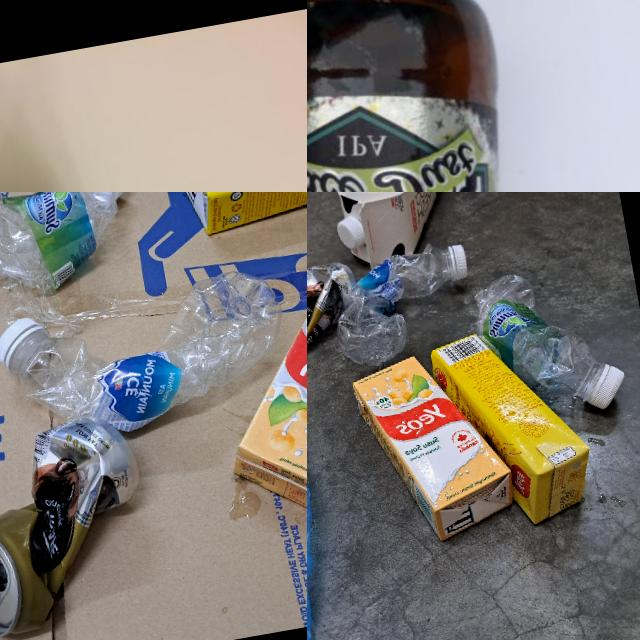caixinha: (430, 316, 598, 538), (350, 344, 519, 552), (202, 259, 307, 526), (318, 192, 467, 266), (172, 192, 307, 238)
garrafa de vidro: (307, 0, 550, 192)
garrafa plástica: (0, 261, 295, 451), (467, 258, 628, 427), (326, 241, 480, 365), (0, 192, 144, 311)
lata: (0, 411, 159, 640), (307, 257, 365, 368)
papelão: (0, 192, 307, 640)
tampa plástica: (0, 312, 51, 369), (580, 358, 628, 408), (334, 210, 365, 250), (443, 240, 468, 282), (87, 192, 131, 205)
